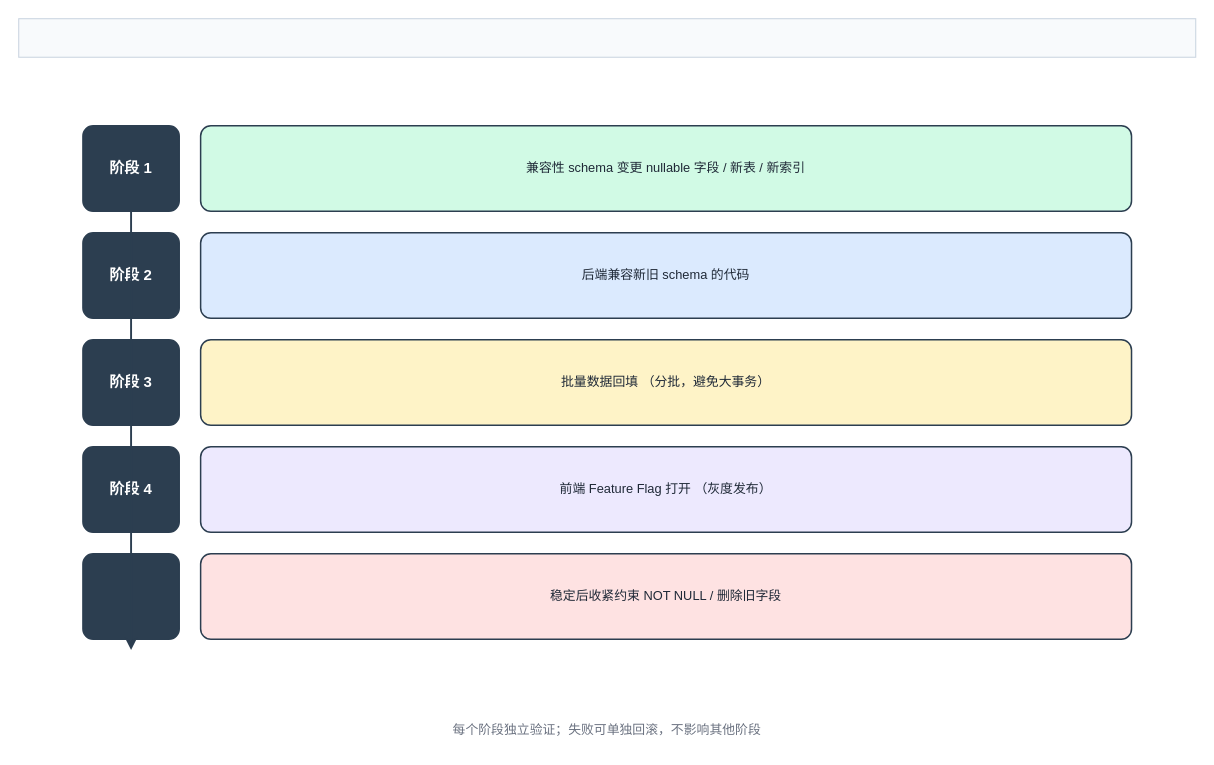
The diagram is 1214 pixels wide and 765 high, and some of its shapes have lost their labels. The centre of each missing label's shape, as x and y in pixels:
"图 11-2 数据库迁移：五阶段安全发布计划" goes at pixel 607 37.
"阶段 5" goes at pixel 130 596.
